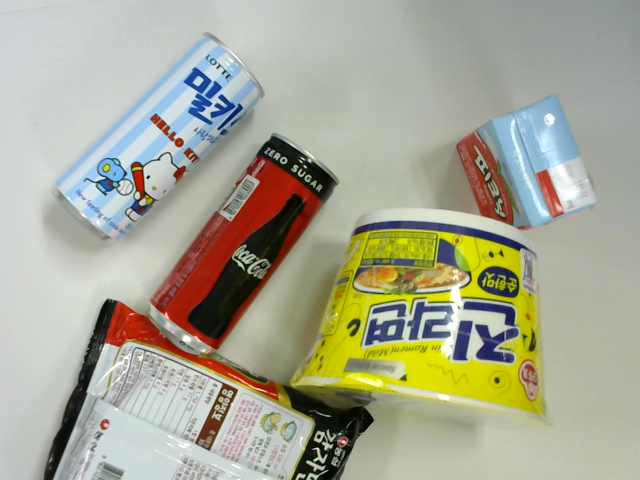Coca_Cola_Zero_Can_250ml: (140, 141, 360, 355)
Jinlamyeon_Mild_Taste_Large_Cup: (325, 211, 570, 418)
Milkies_250ml: (53, 37, 286, 220)
Picnic_Apple: (453, 89, 593, 232)
Potato: (47, 282, 391, 480)
